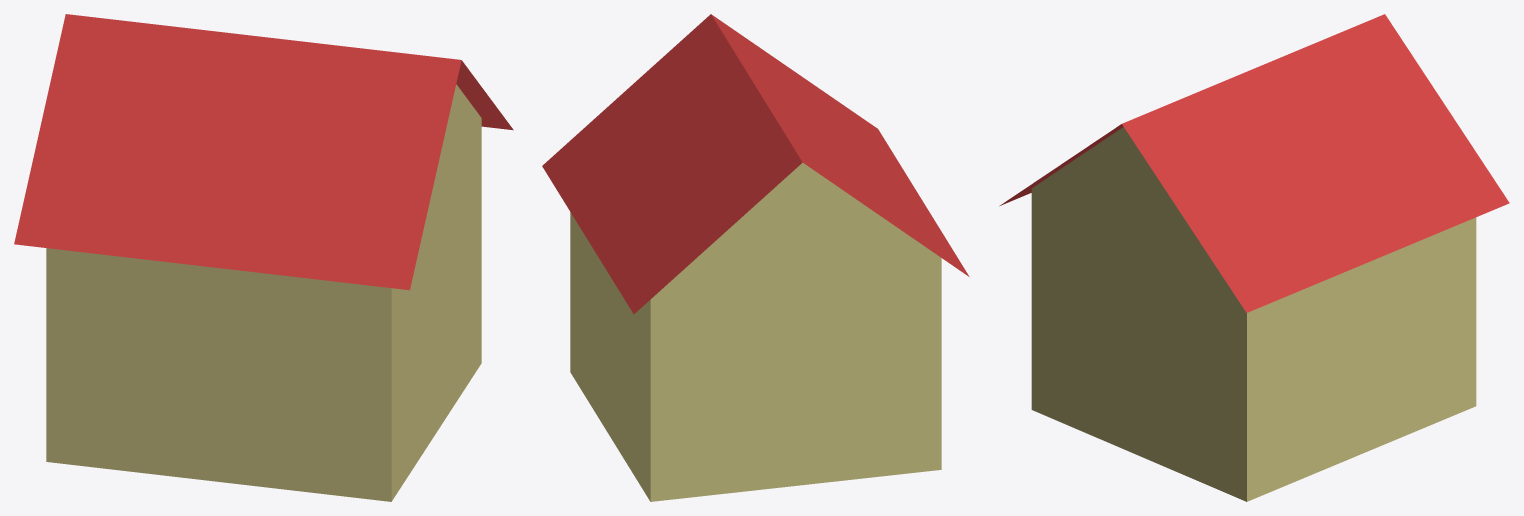
The picture shows the model from 3 angles, left to right: view 1: azimuth 30°, elevation 25°; view 2: azimuth 150°, elevation 25°; view 3: azimuth 270°, elevation 25°; orthographic projection. The views are drawn at different scales.
Size of the model in its own units: 16.18 by 16.19 by 11.83.
